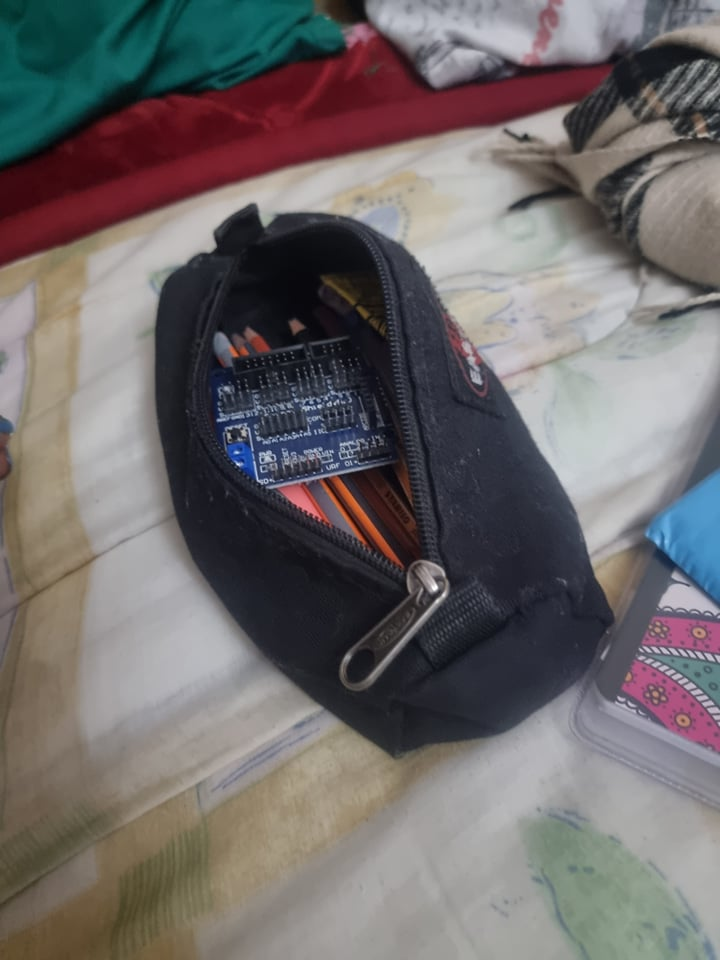5V EXPANSION: (209, 352, 407, 485)
